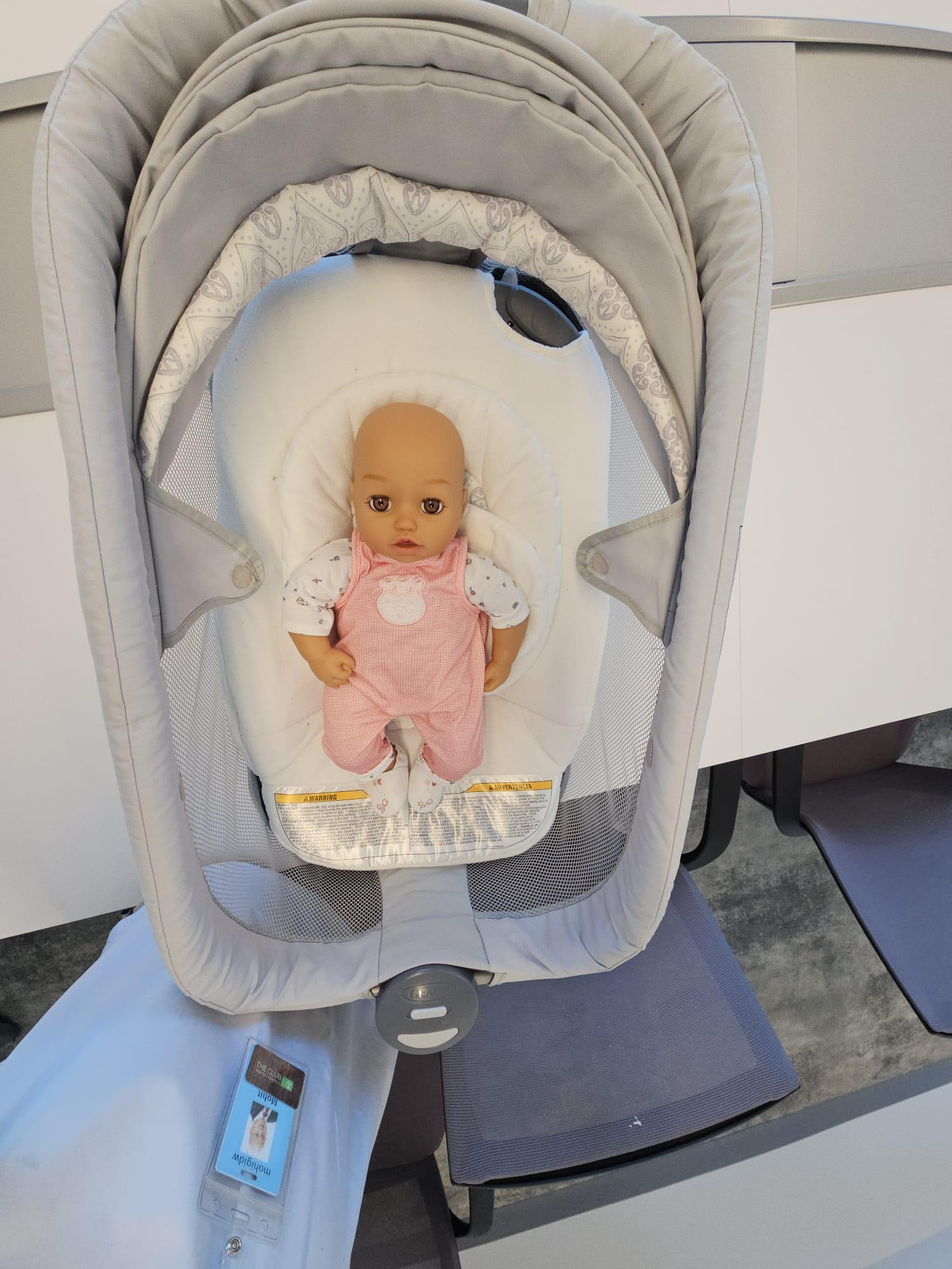baby: (270, 362, 551, 821)
